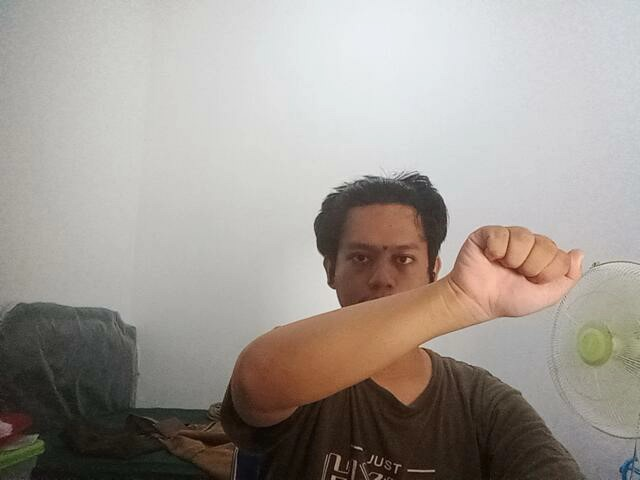A: (453, 212, 588, 327)
